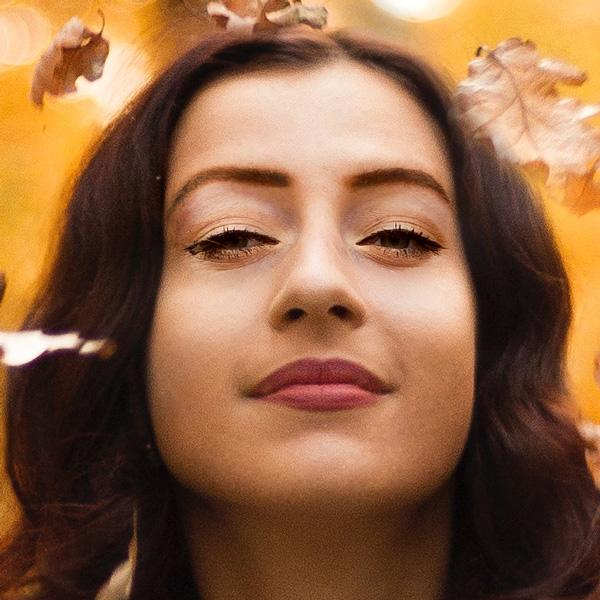Eyes: (342, 204, 455, 270), (181, 205, 286, 272)
